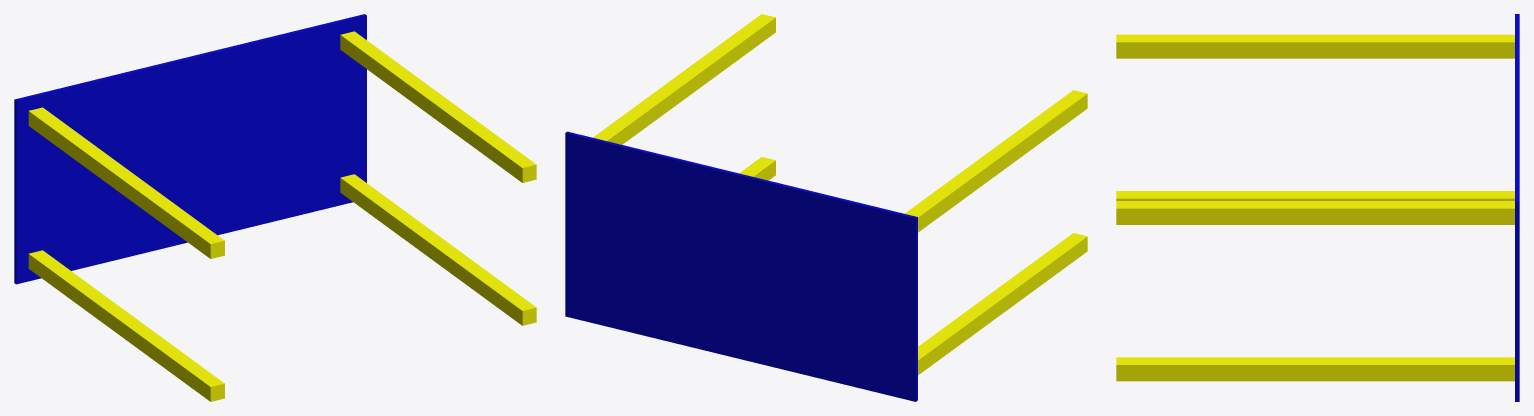
File: Mesa.glb
3 renders of one model, left to right at view 1: azimuth 30°, elevation 25°; view 2: azimuth 150°, elevation 25°; view 3: azimuth 270°, elevation 25°, orthographic. The views are drawn at different scales.
Visible parts, largest first — view 1: entity_4, entity_6; view 2: entity_4, entity_6; view 3: entity_6, entity_4.
Boxes of the visible parts, bbox=[...] form: entity_4: bbox=[14, 14, 366, 284]; entity_6: bbox=[28, 31, 536, 401]; entity_4: bbox=[565, 131, 917, 401]; entity_6: bbox=[593, 14, 1087, 375]; entity_6: bbox=[1116, 34, 1514, 381]; entity_4: bbox=[1515, 14, 1519, 401].
Bounding box in the file's own units: 1000 × 500 × 910.
